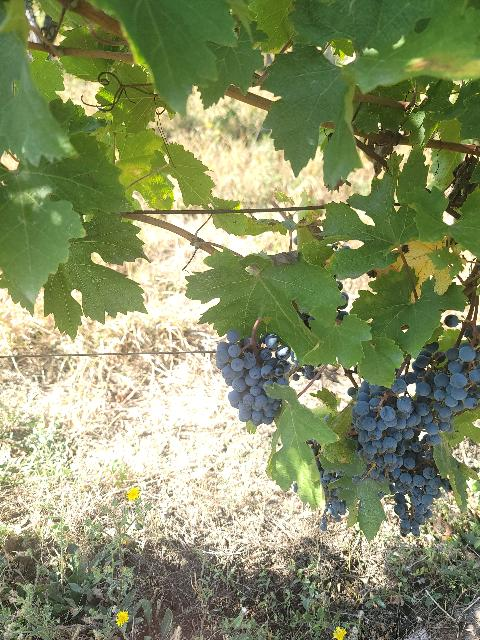grapes: (215, 330, 290, 425), (351, 379, 414, 469), (389, 468, 451, 536), (432, 342, 478, 420)
